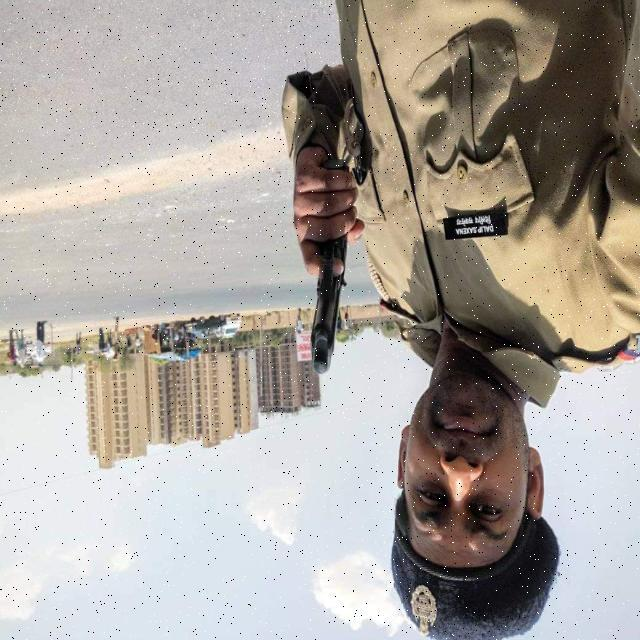gun: (302, 146, 359, 380)
